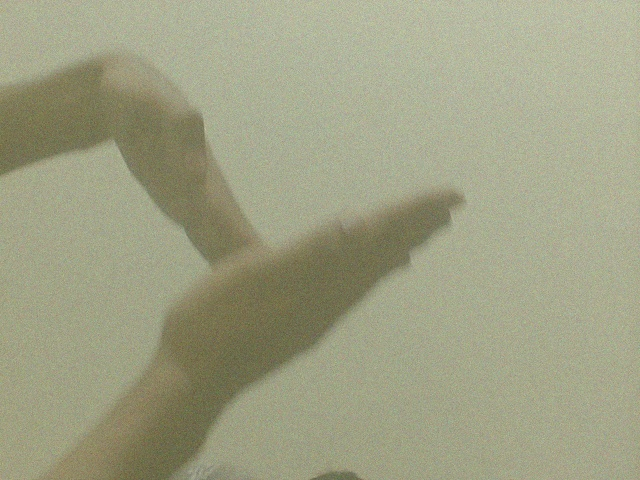hand: (137, 184, 469, 391), (86, 40, 269, 264)
